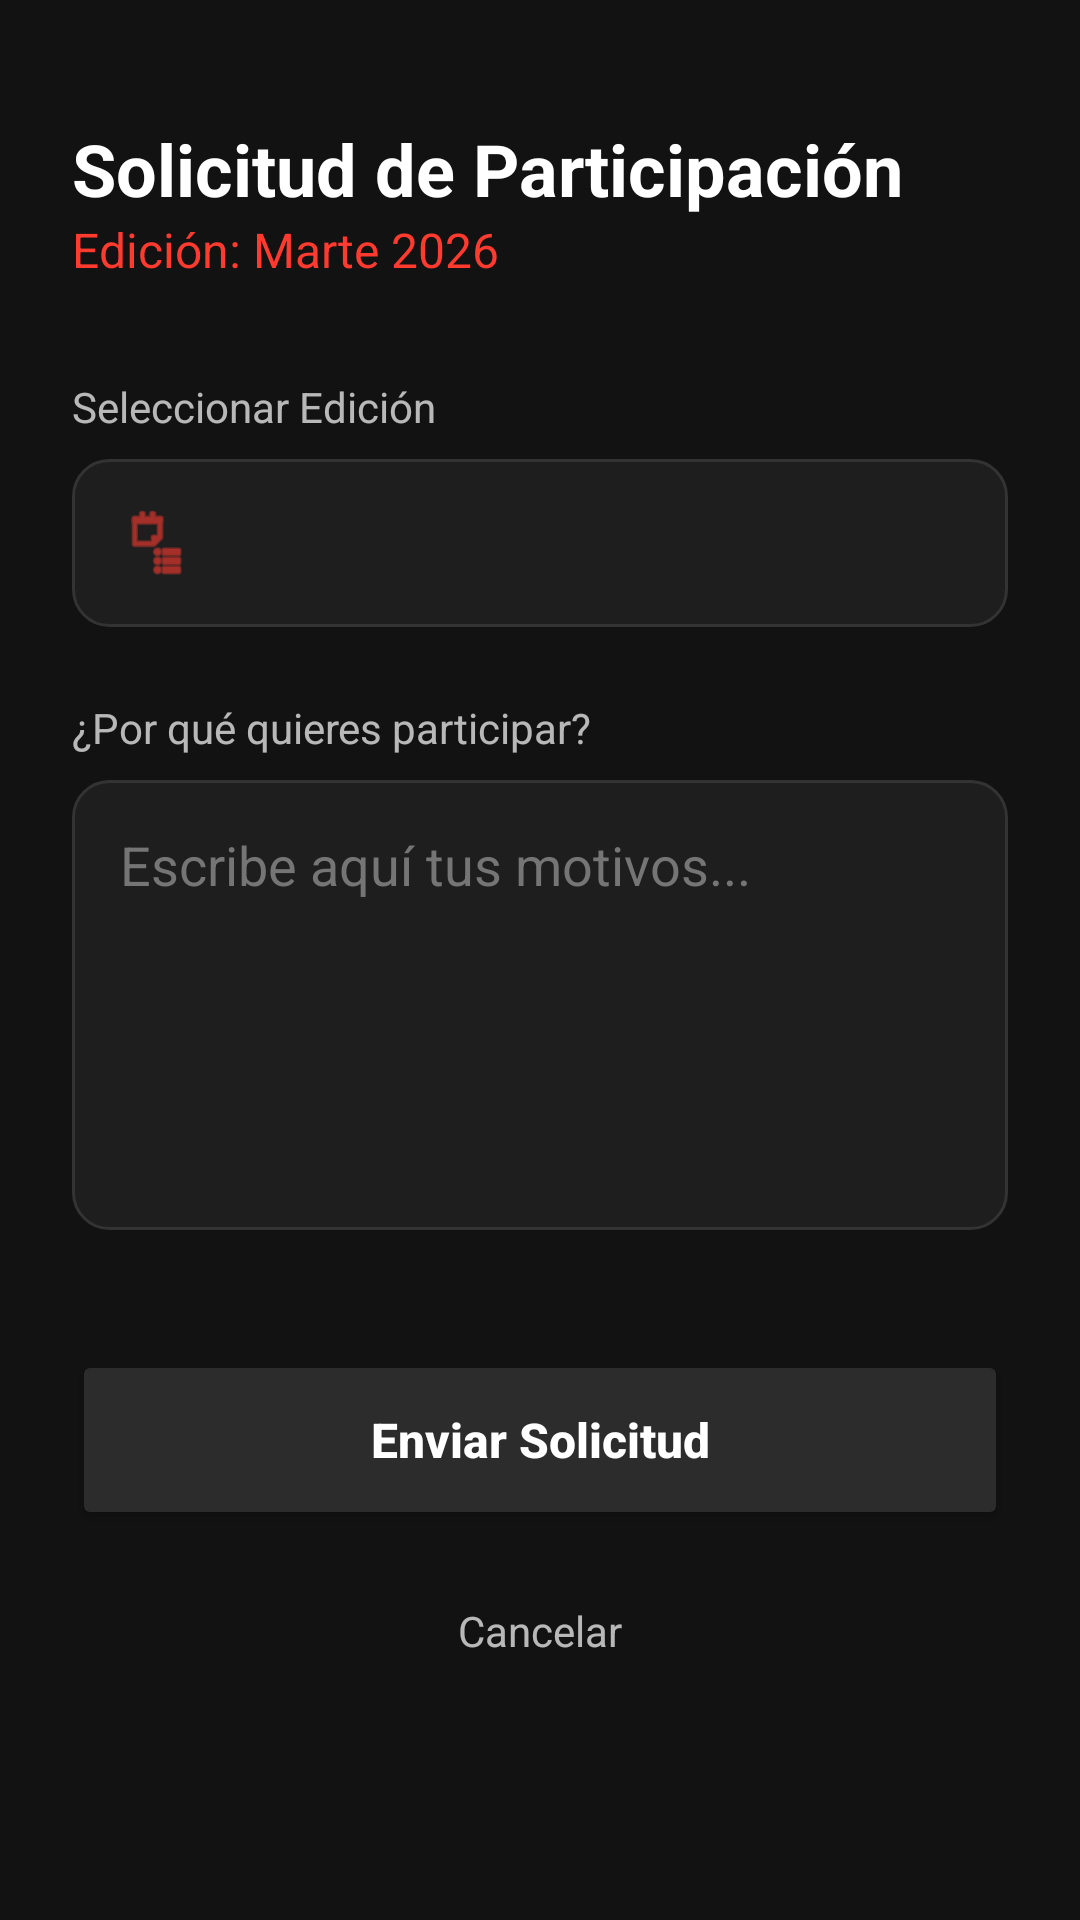

Where to tap for icons on this 1080x1920 app screen, as point (x, y):
agenda: point (156, 543)
